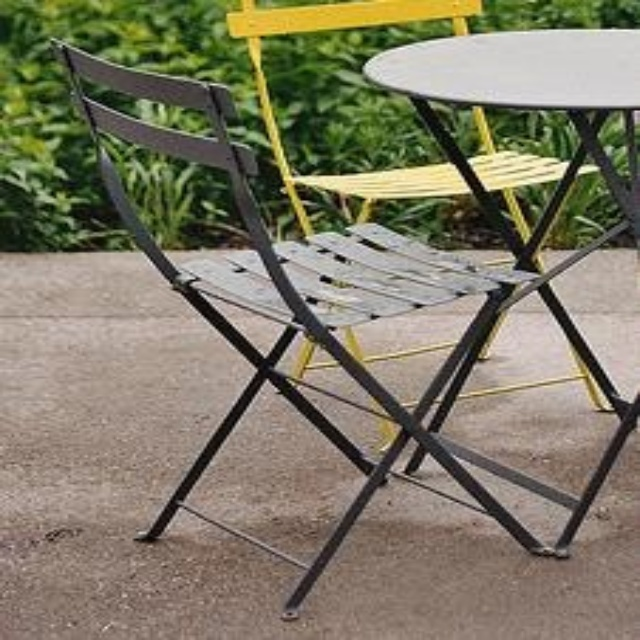obstacle: (54, 32, 637, 617)
